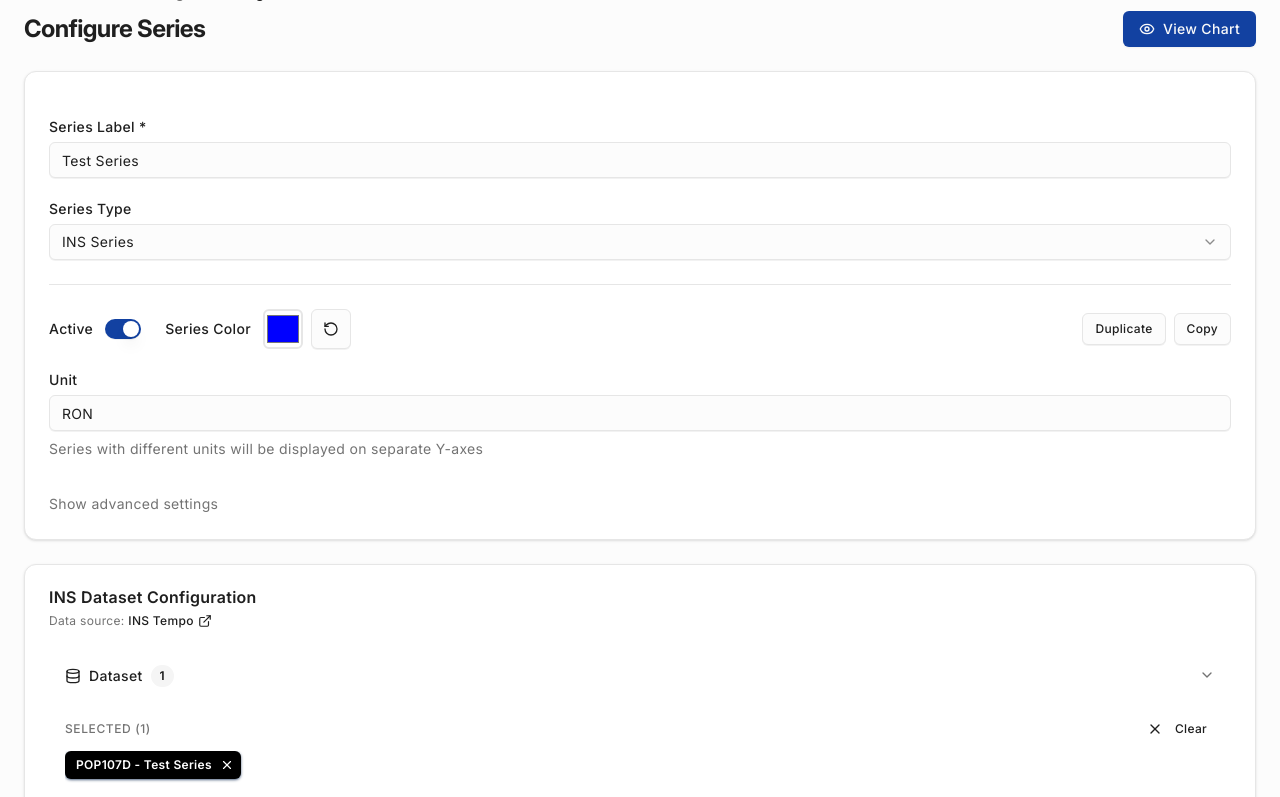
Test: SeriesConfigView › advanced settings › shows INS advanced controls for ins-series
Click the button "Show advanced settings" at (134, 504), box [49,494,218,514]
(page scrolled)
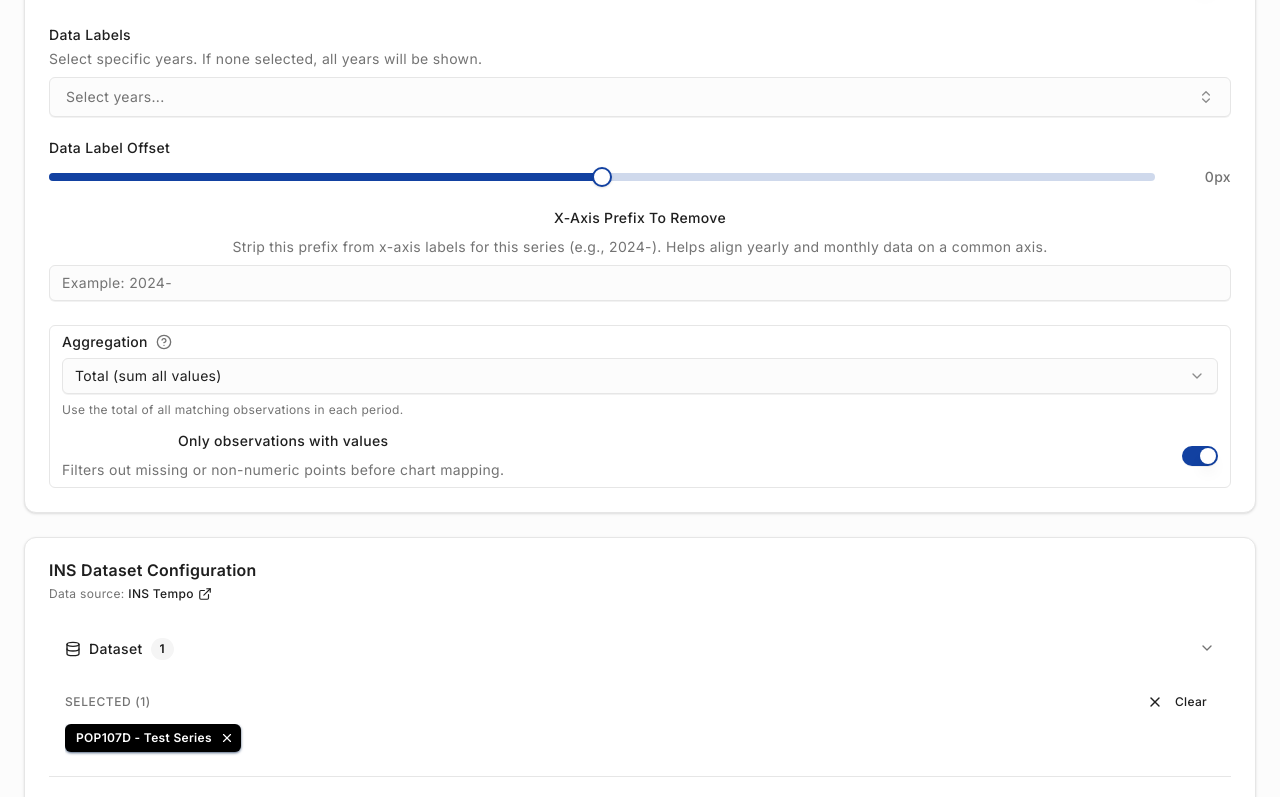
Now the text "Aggregation" is shown, box [62,334,148,348]
Now the text "Only observations with values" is shown, box [178,434,388,448]
Now the button named "Aggregation help" is shown, box [156,334,172,350]
